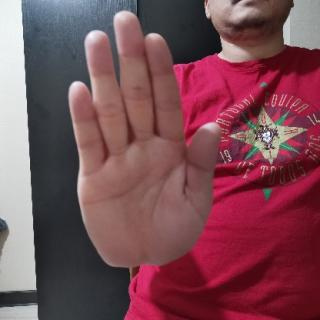SEEN: (62, 7, 224, 277)
